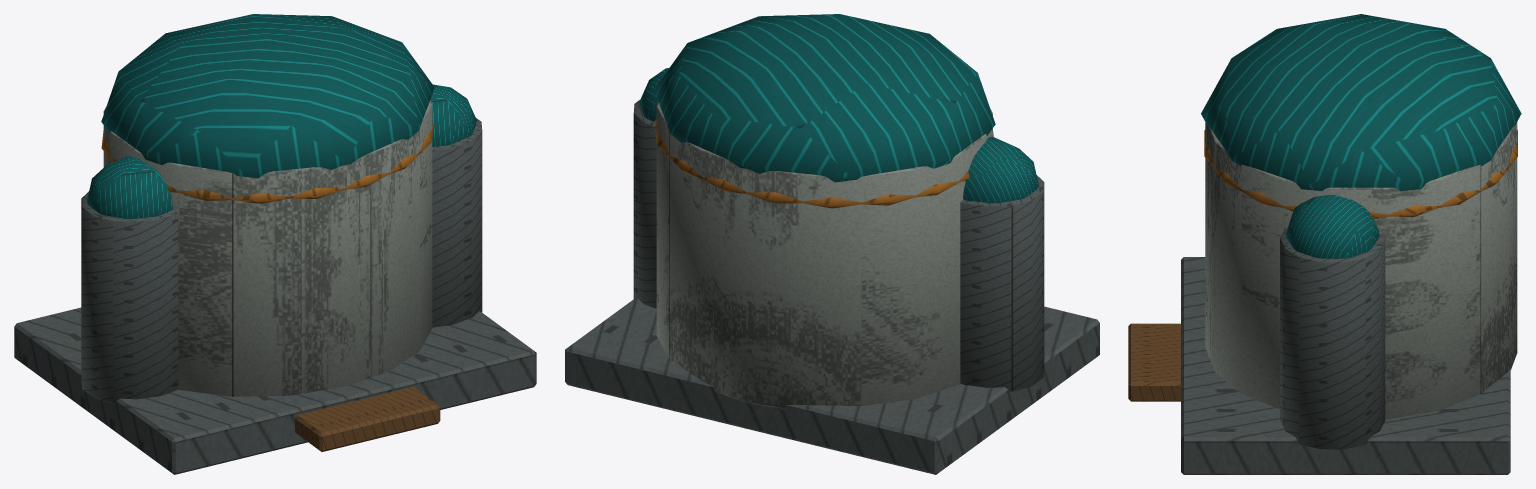
Rendered from suit-fitter.glb.
3 renders of one model, left to right at view 1: azimuth 30°, elevation 25°; view 2: azimuth 150°, elevation 25°; view 3: azimuth 270°, elevation 25°, orthographic. The views are drawn at different scales.
Parts seen in each view (by area): view 1: suit-fitter; view 2: suit-fitter; view 3: suit-fitter.
Boxes of the visible parts, x1=… form: suit-fitter: x1=14, y1=14, x2=536, y2=474; suit-fitter: x1=565, y1=14, x2=1099, y2=474; suit-fitter: x1=1128, y1=14, x2=1521, y2=474.
Bounding box in the file's own units: 3.78 × 3.06 × 3.22.
Materials: 1 (1 with a texture image).
